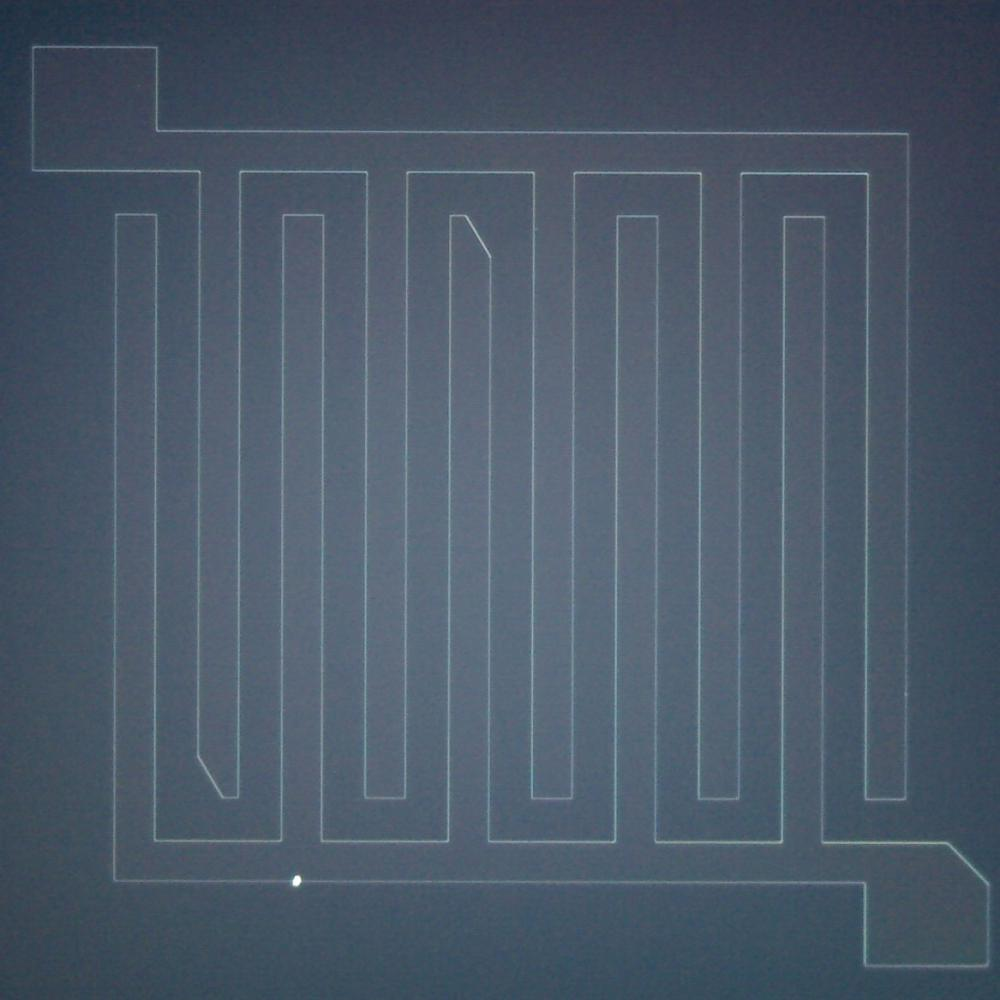edge circuit: (434, 196, 504, 277), (929, 823, 999, 904), (188, 737, 249, 812)
spot: (283, 867, 312, 893)
